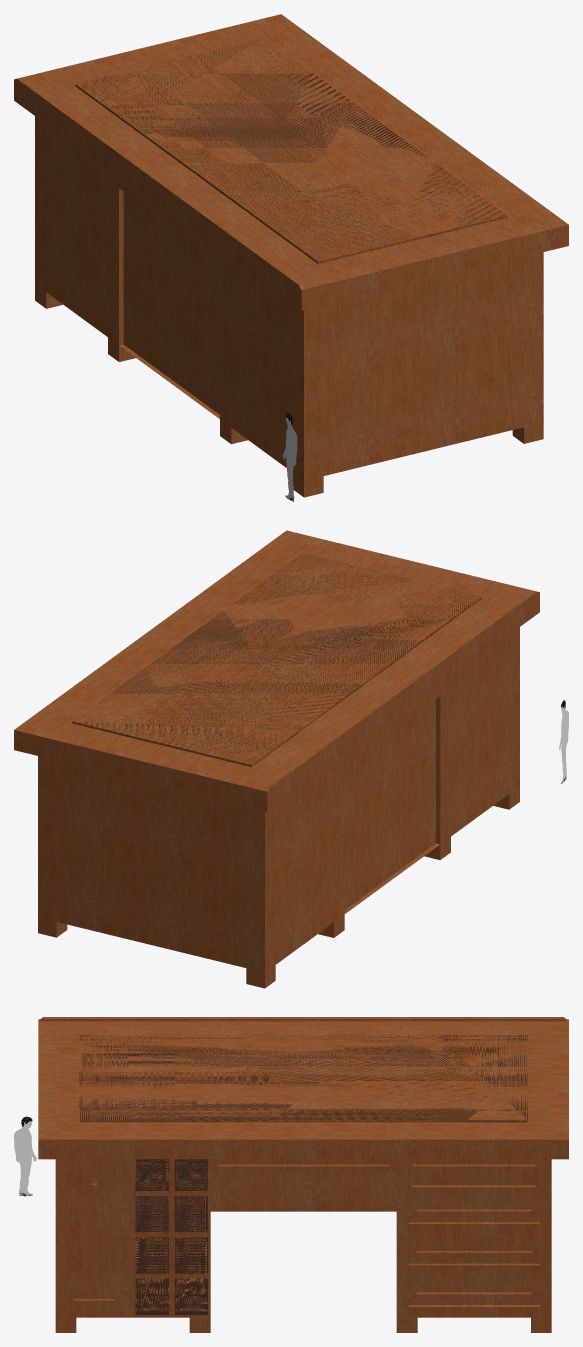
3 views of the same model, one above another, from view 1: azimuth 30°, elevation 25°; view 2: azimuth 150°, elevation 25°; view 3: azimuth 270°, elevation 25° (orthographic). The views are drawn at different scales.
Visible parts, largest first — view 1: SketchUp (×2); view 2: SketchUp (×2); view 3: SketchUp (×21), Sang (×2).
Boxes of the visible parts, bbox=[...] form: SketchUp (×2): bbox=[14, 14, 568, 497]; SketchUp (×2): bbox=[14, 530, 539, 988]; SketchUp (×21): bbox=[38, 1017, 568, 1332]; Sang (×2): bbox=[14, 1127, 32, 1195].
Bounding box in the file's own units: 241 × 438 × 177.
7 materials, 1 textured.
